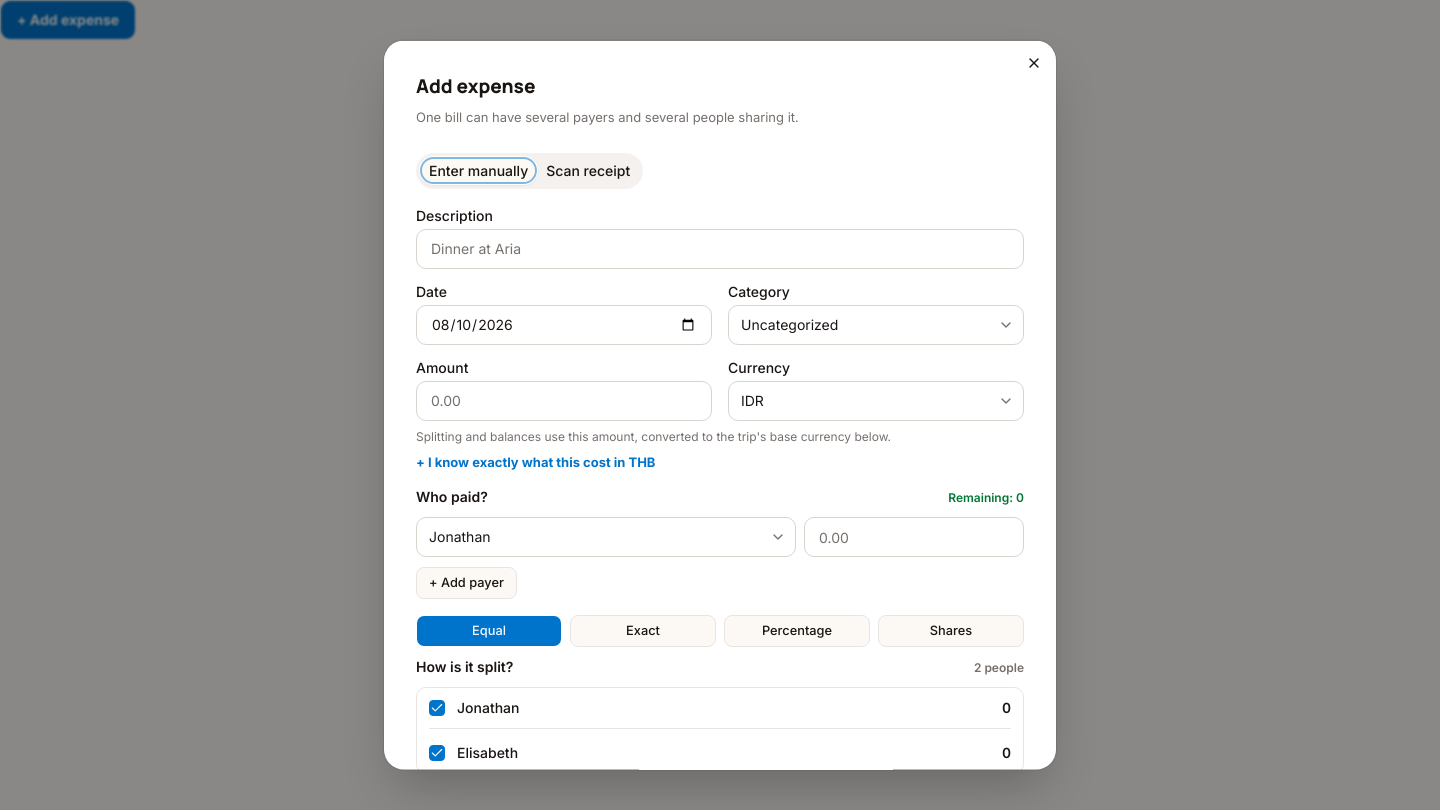
Test: ExpenseDialog › distributes the remainder to whichever participant is picked in the modal, not just the last row
Select "THB" in the dropdown labelled "Currency" at (876,400), box [728,380,1024,420]
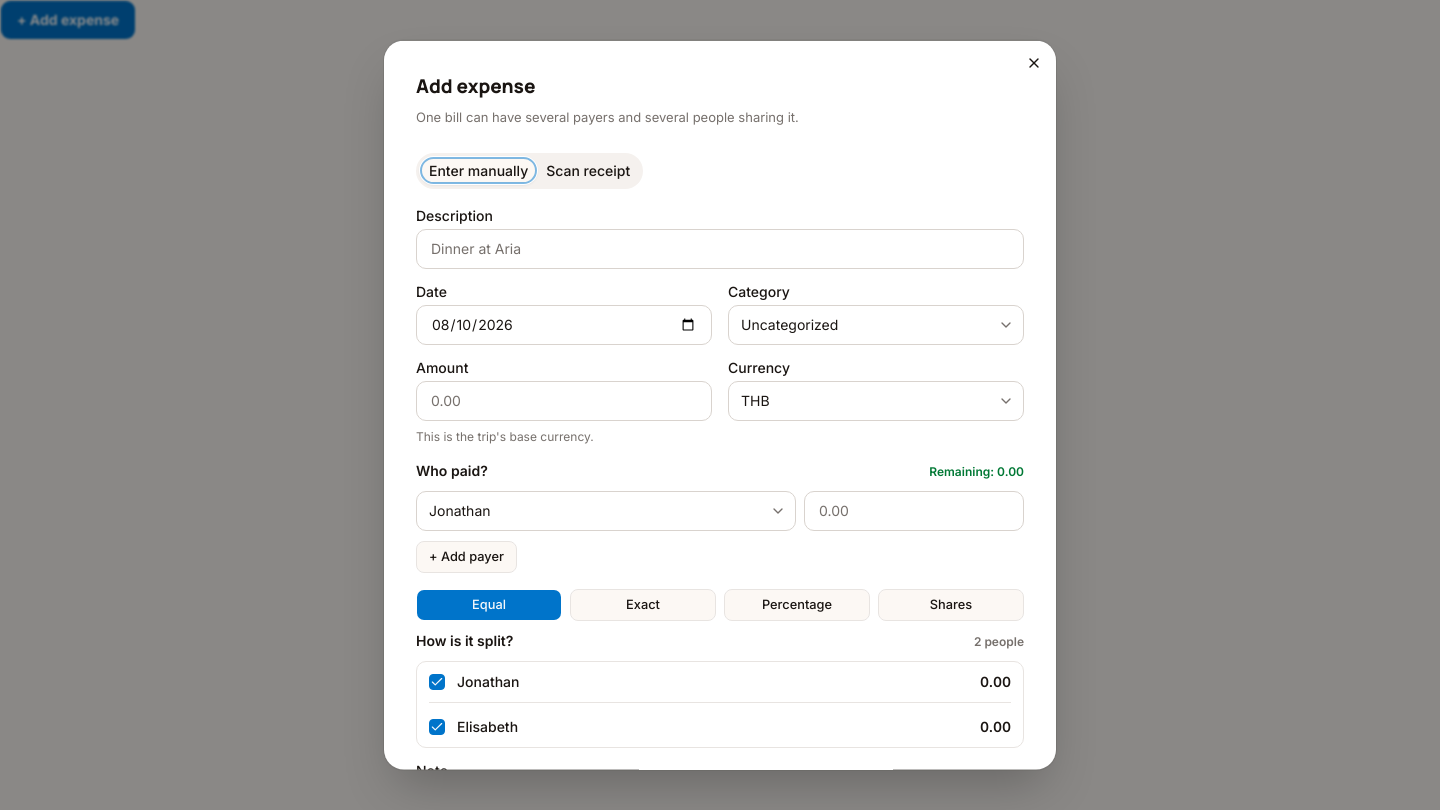
Type "200" into the field labelled "Amount" at (564,400), box [416,380,712,420]
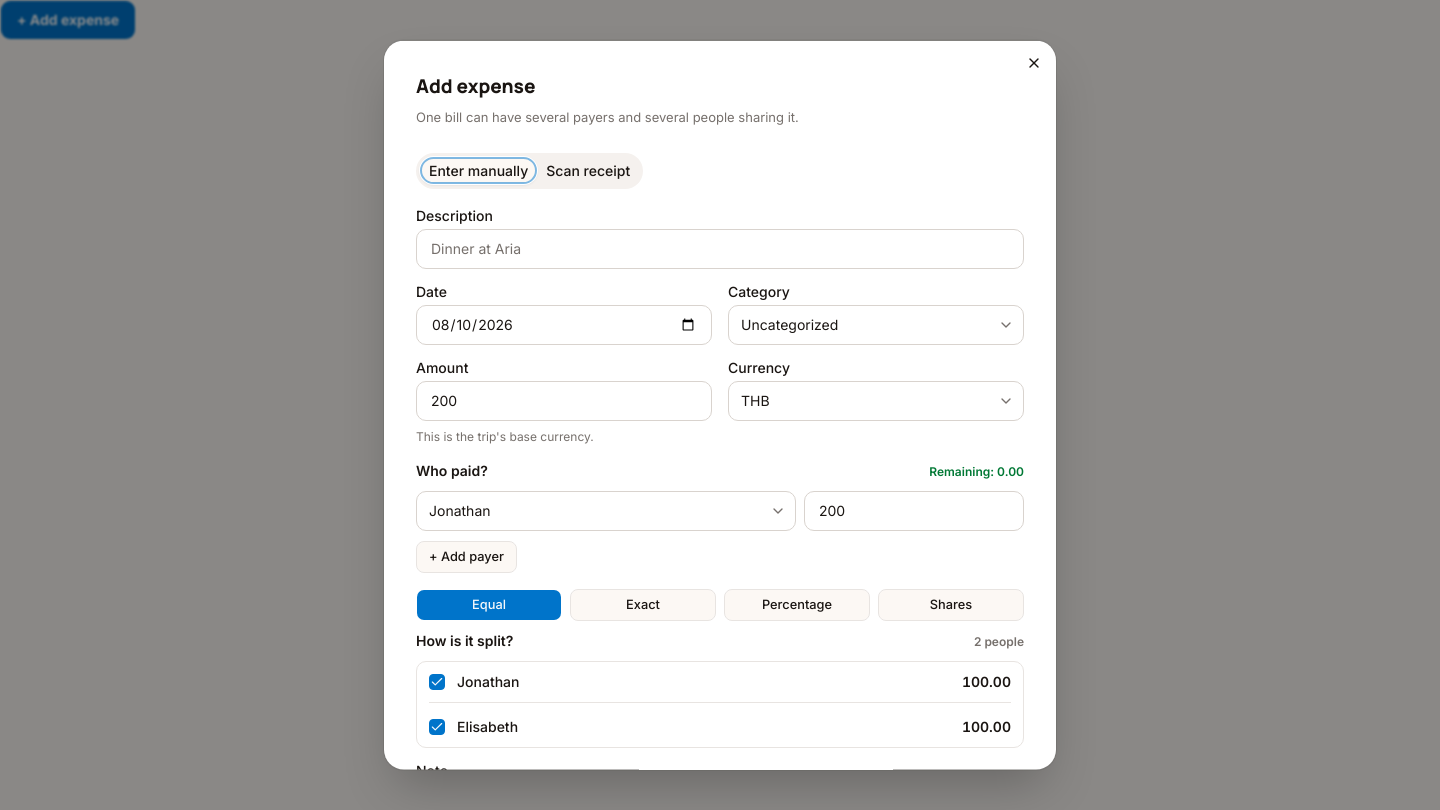
Click the button "Exact" at (643,604), box [570,588,716,620]
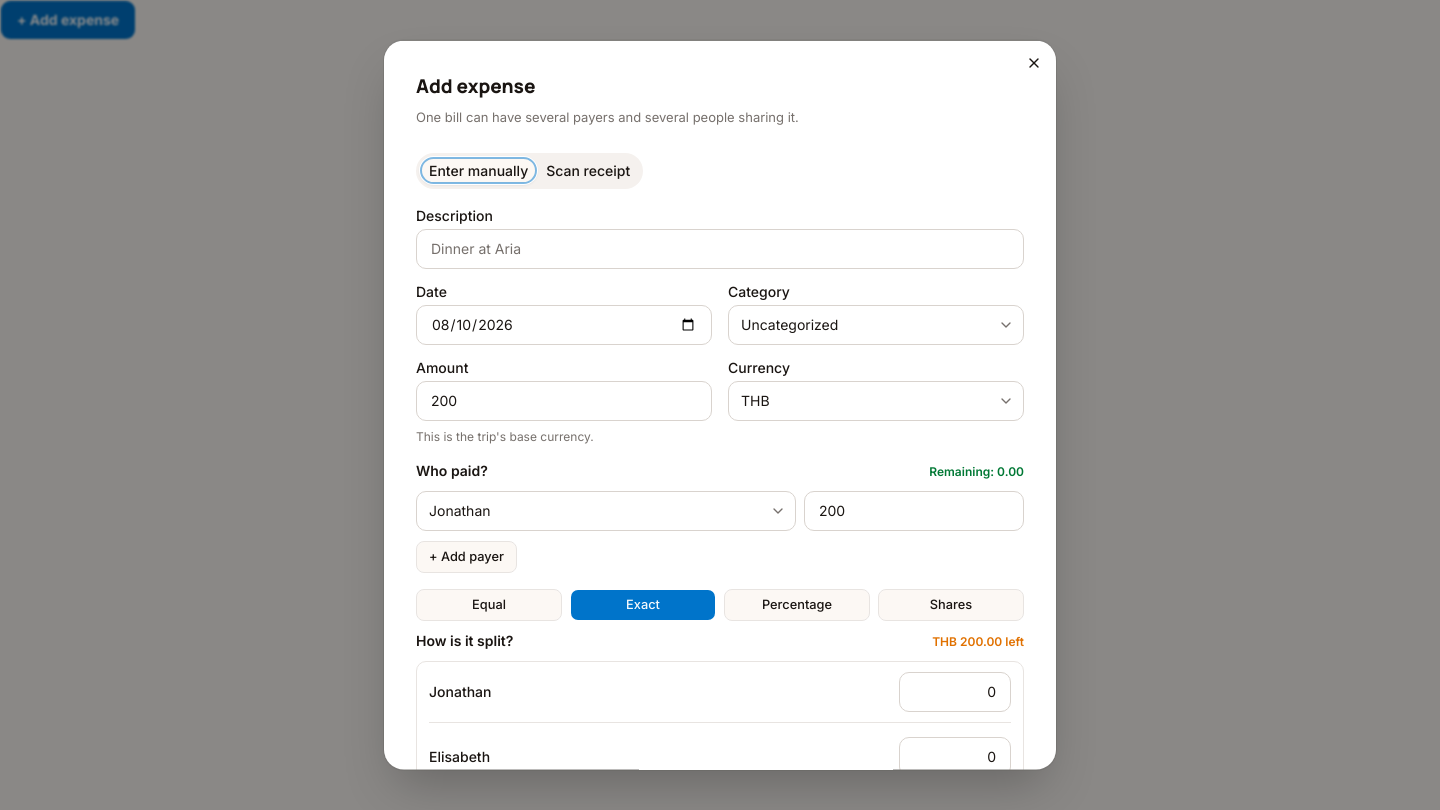
Replace the text in the field named "split for jonathan" with "100" at (955,691), box [899,671,1011,711]
(page scrolled)
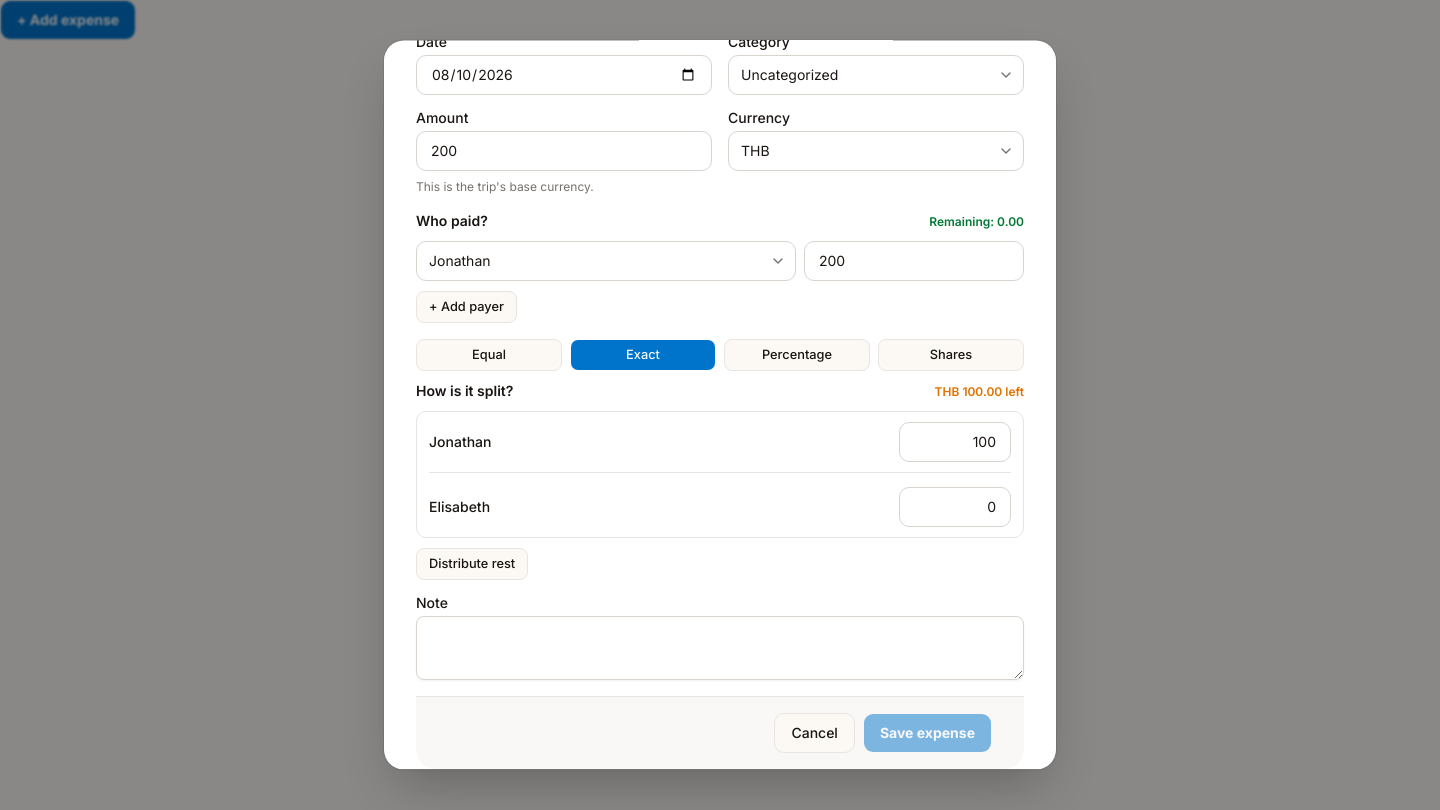
Click the button "Distribute rest" at (472,564), box [416,548,528,580]
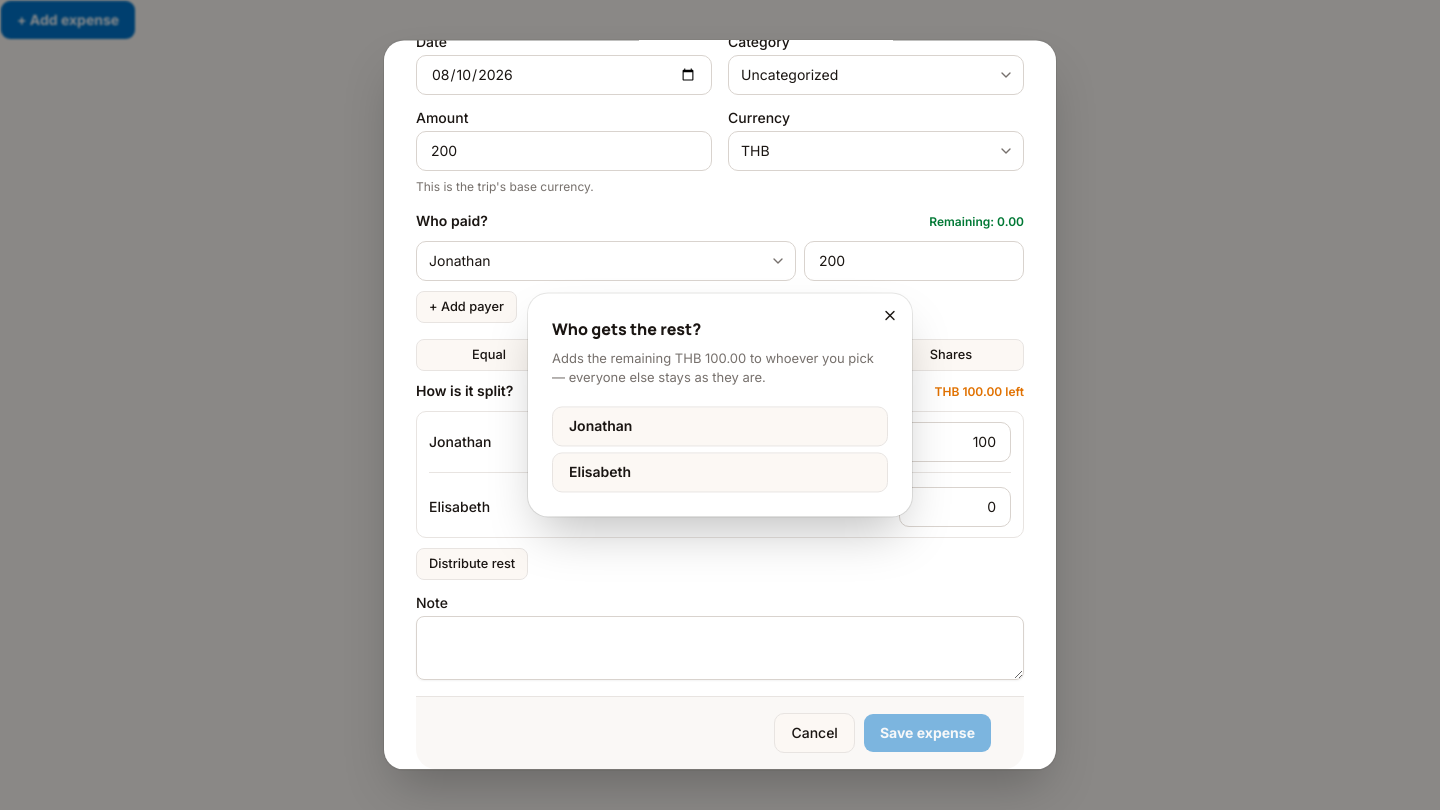
Click the button "Elisabeth" at (600,472), box [552,453,888,493]
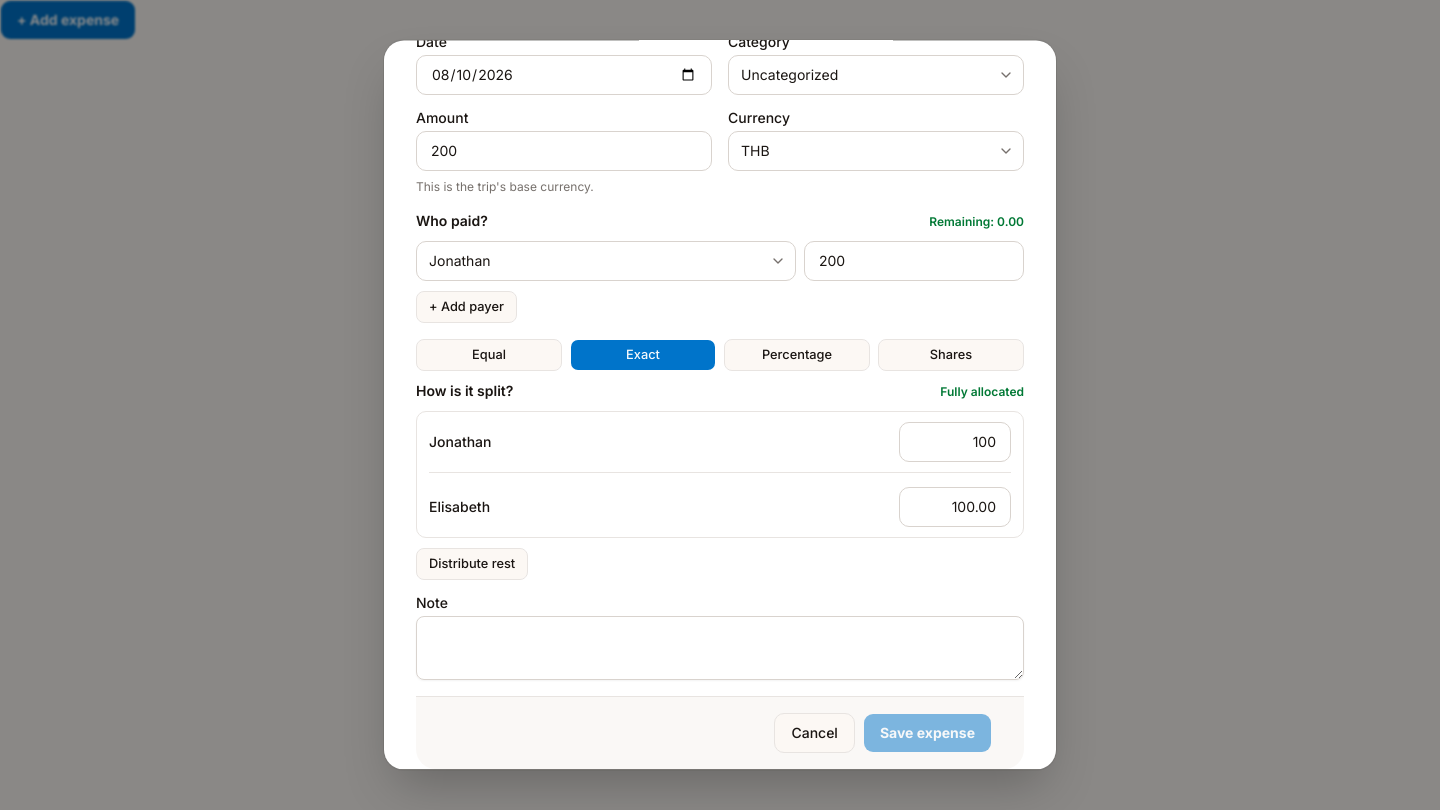
Result: the field named "split for elisabeth" holds "100.00" at [899,487,1011,527]
